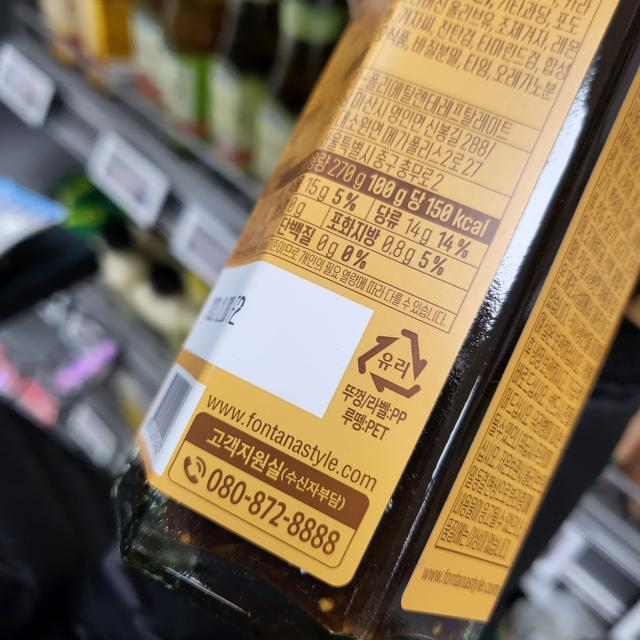Glass: (352, 324, 428, 402)
